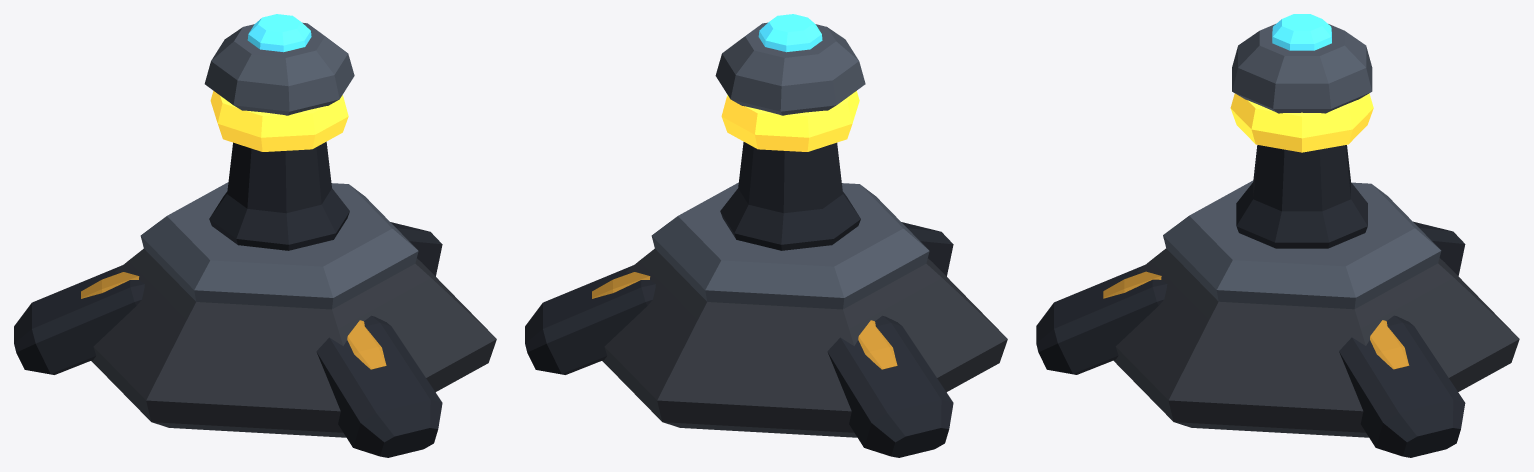
Rendered from Stim.fbx.
3 renders of one model, left to right at view 1: azimuth 30°, elevation 25°; view 2: azimuth 150°, elevation 25°; view 3: azimuth 270°, elevation 25°, orthographic.
Parts seen in each view (by area): view 1: Base, Shoulder, Mast, Foot3, Crown, Foot2, Coil_Yellow, Light_Energy.001, Foot1, FootMark3, FootMark2; view 2: Base, Shoulder, Mast, Foot2, Crown, Foot1, Coil_Yellow, Light_Energy.001, Foot3, FootMark2, FootMark1; view 3: Base, Shoulder, Mast, Foot1, Crown, Foot3, Coil_Yellow, Light_Energy.001, Foot2, FootMark1, FootMark3.
Boxes of the visible parts, box(x1,y1,x2,y2) form: Base: box(91, 248, 496, 437); Shoulder: box(140, 182, 418, 309); Mast: box(209, 141, 349, 250); Foot3: box(316, 315, 442, 457); Crown: box(204, 22, 354, 115); Foot2: box(14, 265, 144, 374); Coil_Yellow: box(210, 91, 348, 151); Light_Energy.001: box(247, 14, 311, 52); Foot1: box(390, 222, 442, 276); FootMark3: box(347, 320, 386, 369); FootMark2: box(81, 272, 139, 298); Base: box(602, 248, 1007, 437); Shoulder: box(651, 182, 929, 309); Mast: box(720, 142, 860, 250); Foot2: box(827, 315, 953, 457); Crown: box(715, 22, 865, 115); Foot1: box(525, 265, 655, 374); Coil_Yellow: box(721, 91, 859, 151); Light_Energy.001: box(758, 14, 822, 52); Foot3: box(901, 222, 953, 276); FootMark2: box(858, 320, 897, 369); FootMark1: box(592, 272, 650, 298); Base: box(1113, 248, 1519, 437); Shoulder: box(1163, 180, 1441, 309); Mast: box(1236, 145, 1367, 248); Foot1: box(1339, 315, 1465, 457); Crown: box(1232, 24, 1372, 113); Foot3: box(1036, 265, 1167, 374); Coil_Yellow: box(1230, 93, 1373, 152); Light_Energy.001: box(1272, 14, 1331, 50); Foot2: box(1413, 221, 1465, 275); FootMark1: box(1370, 320, 1409, 369); FootMark3: box(1103, 271, 1161, 298).
Bounding box in the file's own units: 1.05 × 0.817 × 1.04.
